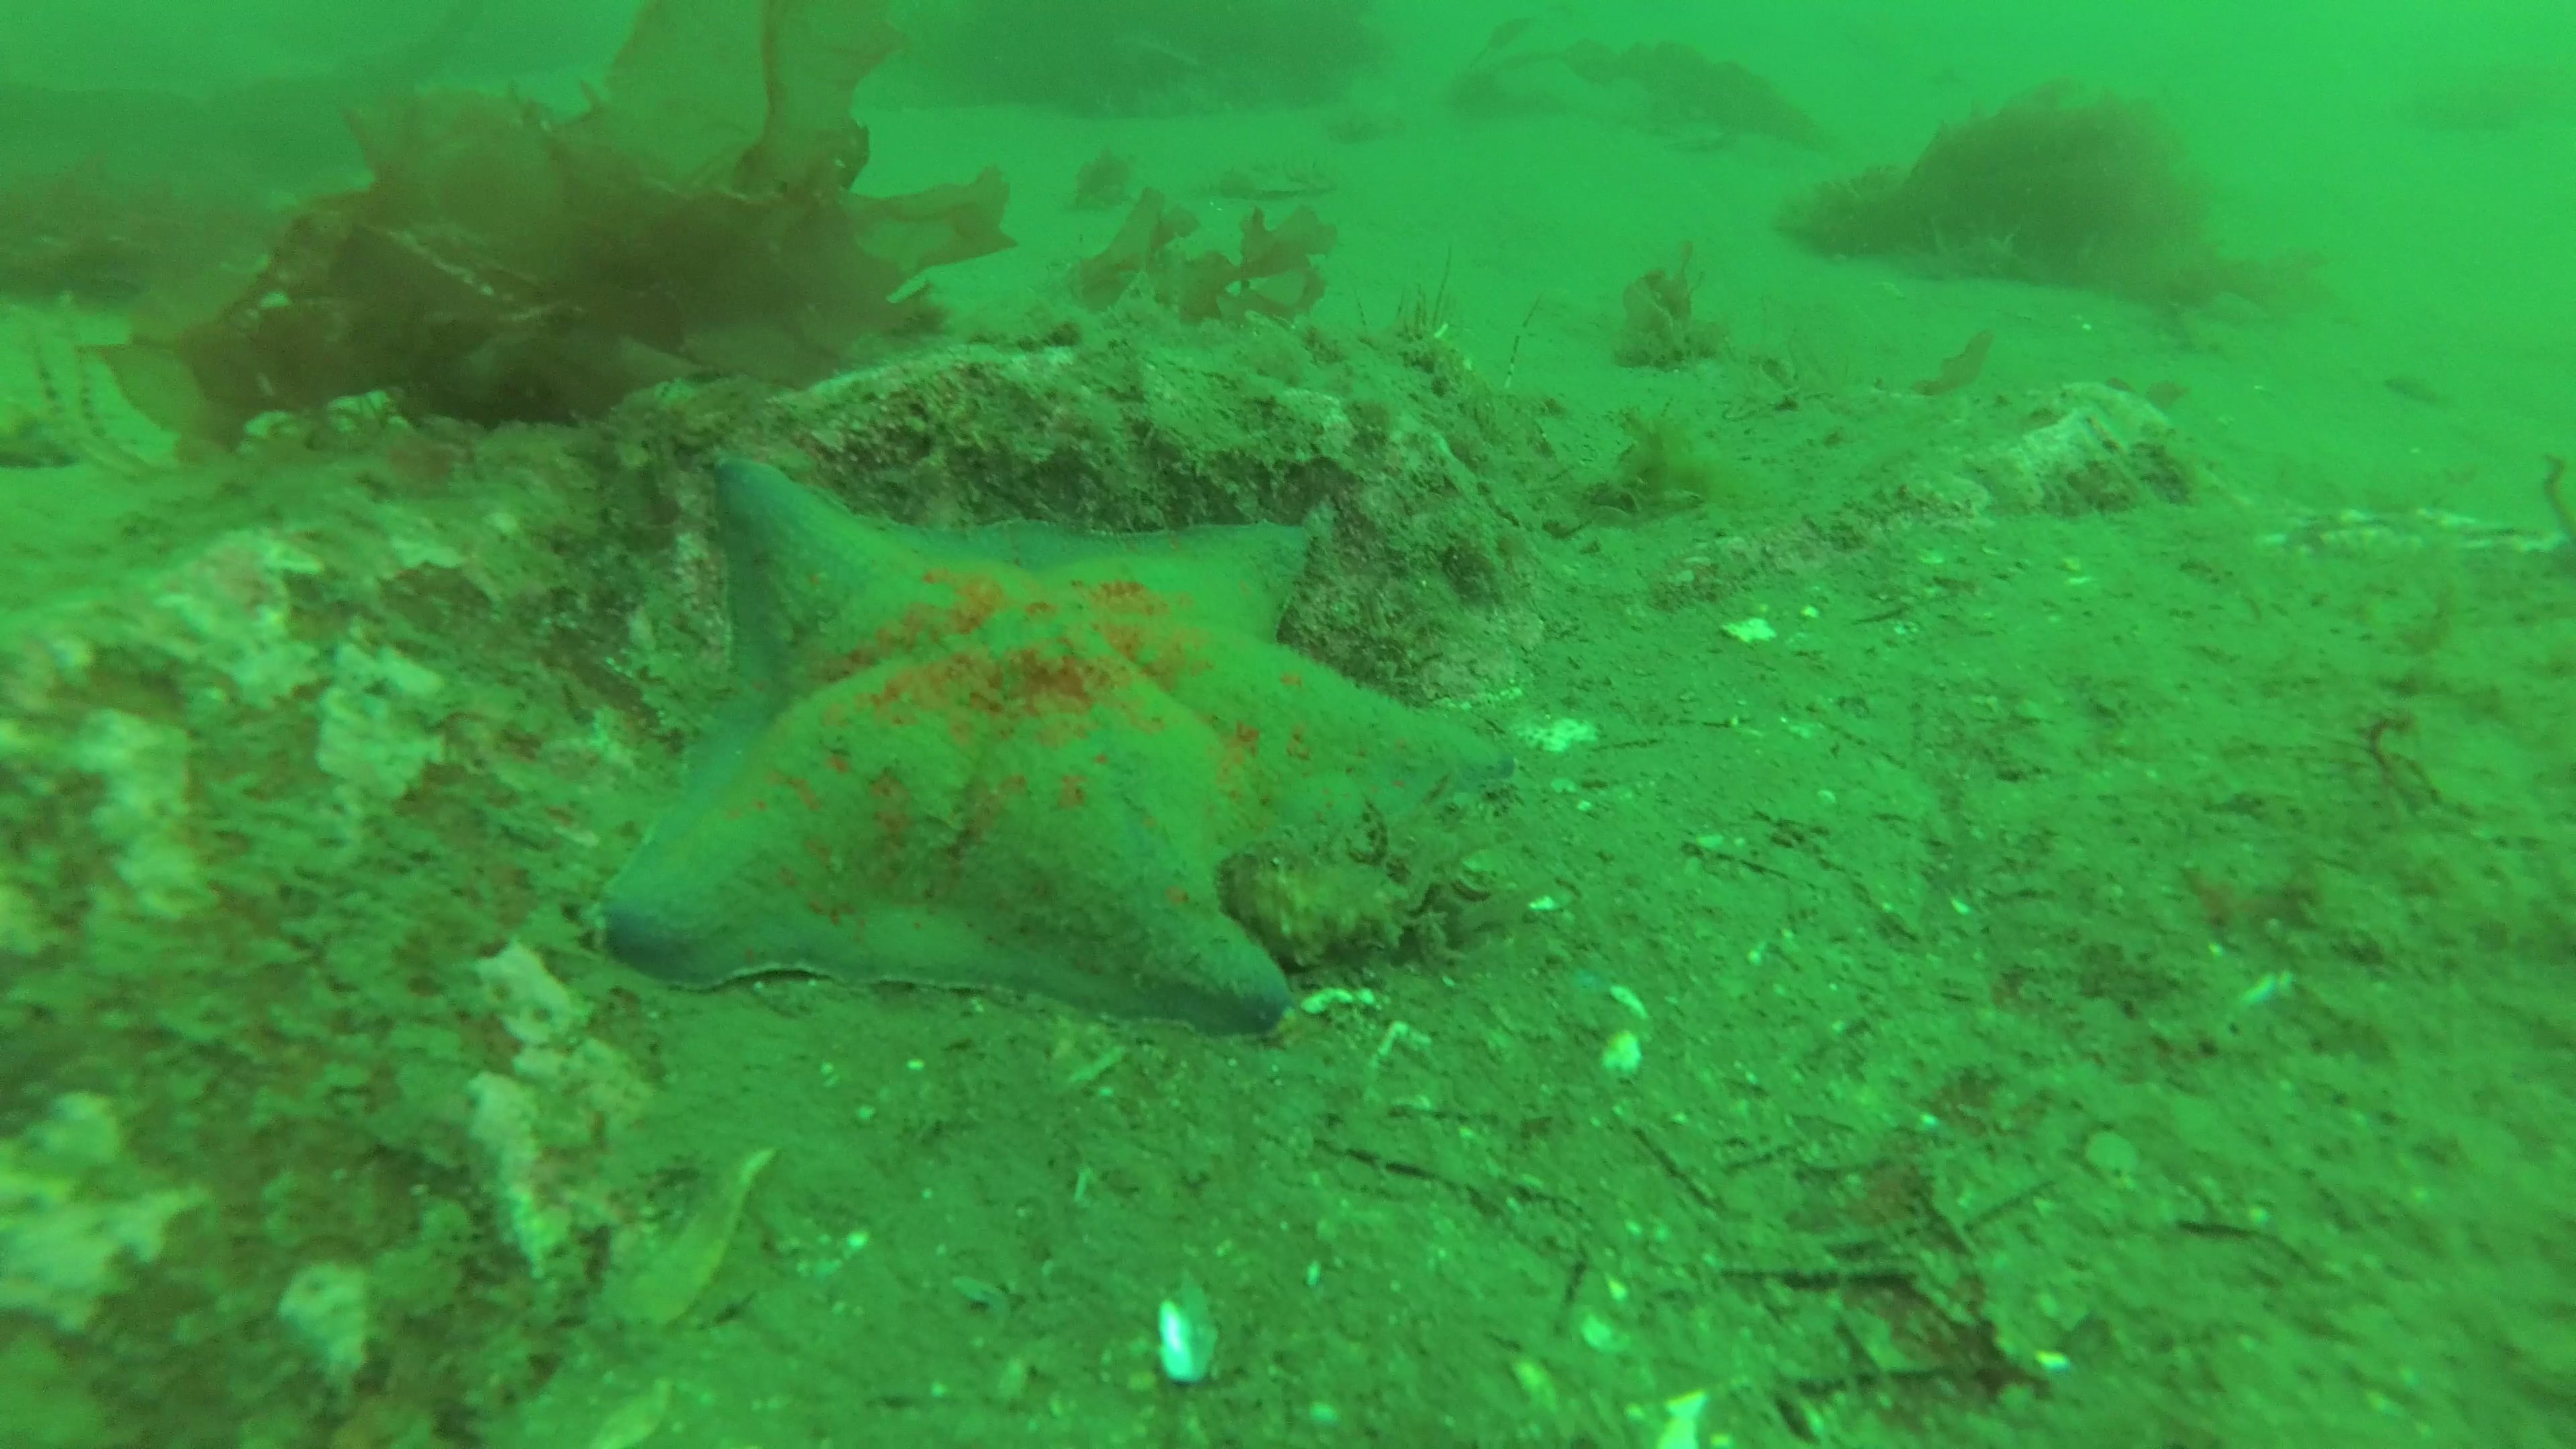starfish: (598, 453, 1509, 1039)
